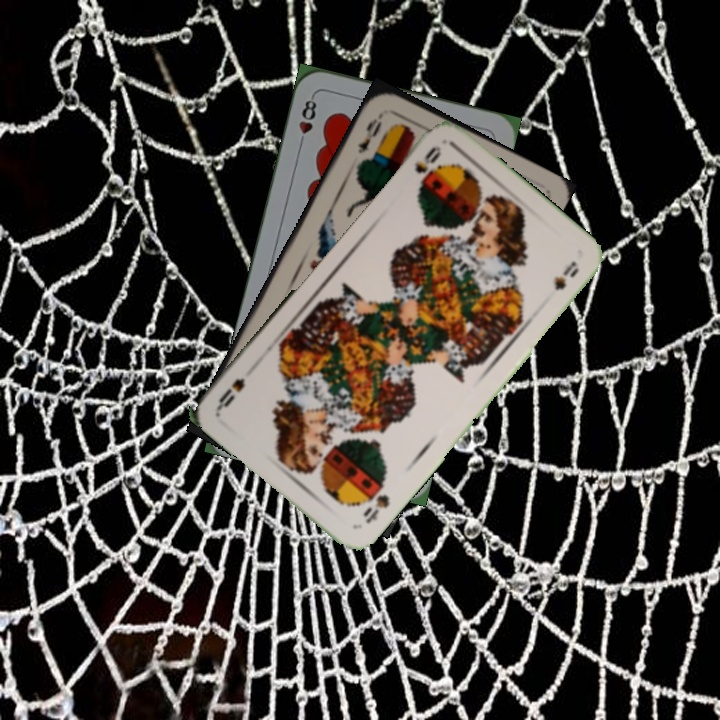EO: (353, 108, 386, 156)
H8: (294, 92, 320, 150)
SO: (358, 480, 393, 527), (410, 142, 444, 186)
